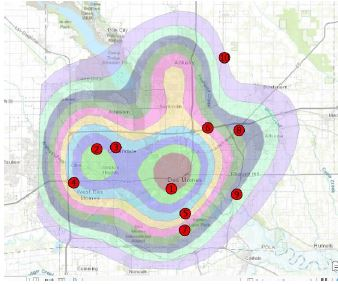

The page's visual inventory and layout, read from the dashboard file:
{"tool":"tableau","page":{"name":"microclimate clustering","canvas":[1000,800],"ordinal":0},"visuals":[{"type":"worksheet","title":"microclimate","mark":"Multipolygon","box":[79,71,835,630]},{"type":"legend","title":"microclimate","param":"[federated.1pjx4zt0tdre2y18sq6dv0k7s1um].[none:AdhocCluster:2:ok]","box":[793,400,140,178]}]}

Visuals, with their boxes on the page's 1000x800 design canvas (x1, y1, x2, y2). These are canvas units, not pixel positions in the 338x284 screenshot, which may show the page scaled, cropped or inside an application window:
"microclimate" worksheet (Multipolygon marks): l=79, t=71, r=914, b=701
"microclimate" legend: l=793, t=400, r=933, b=578
